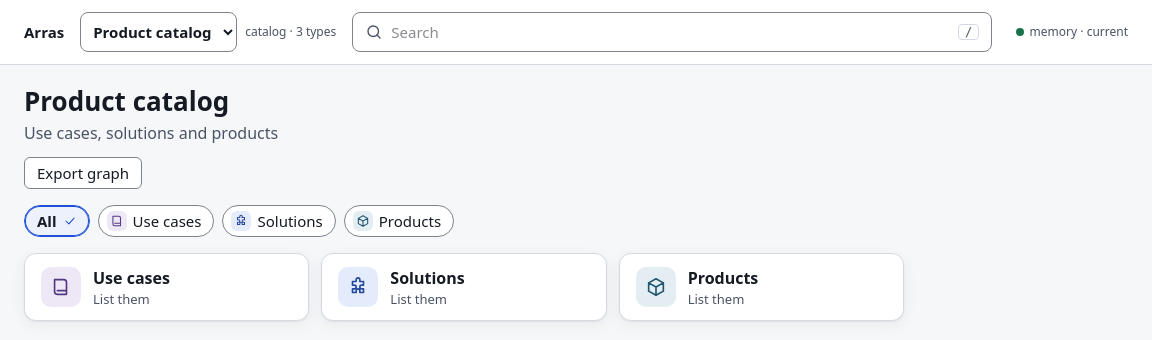
Test case: exporting the graph › says when the file is not the whole graph
What coordinates should you click on to do the following:
click the button "Export graph"
I would click on:
 (83, 173)
Its box is [24,157,142,189].
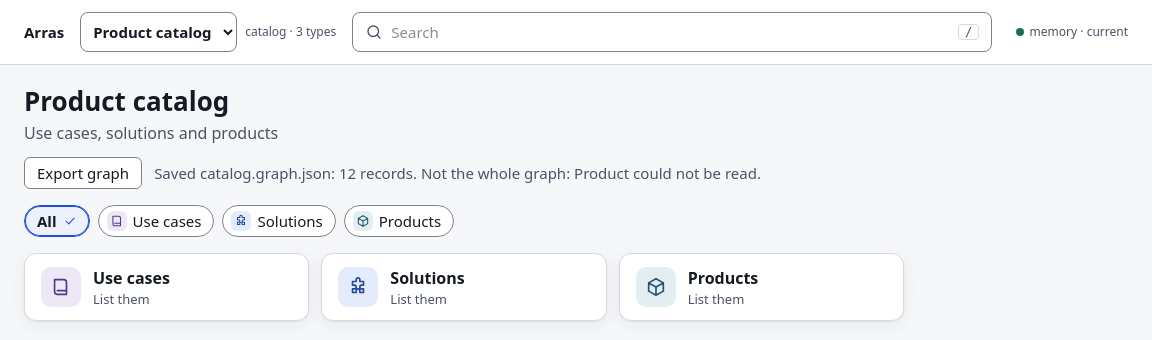
Expected: the message shows "Not the whole graph: Product could not be read.", [154,163,761,183]
